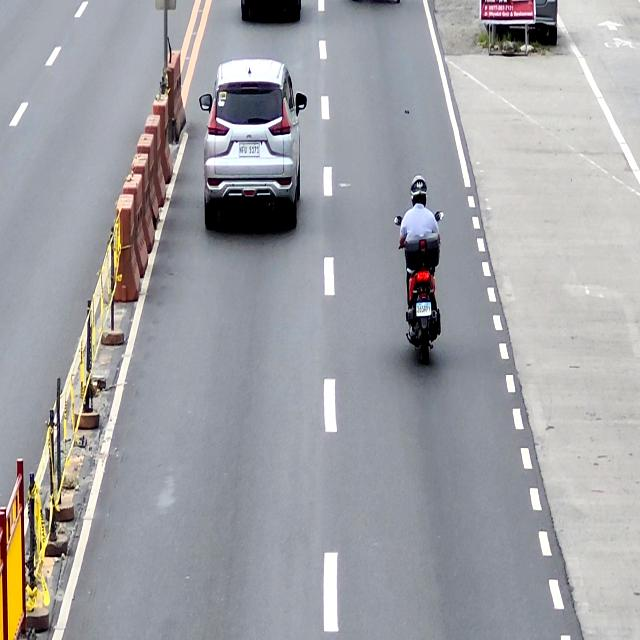Car: (200, 59, 306, 233)
License-Plate: (237, 143, 260, 159), (416, 302, 432, 315)
Motorcycle: (393, 208, 443, 362)
